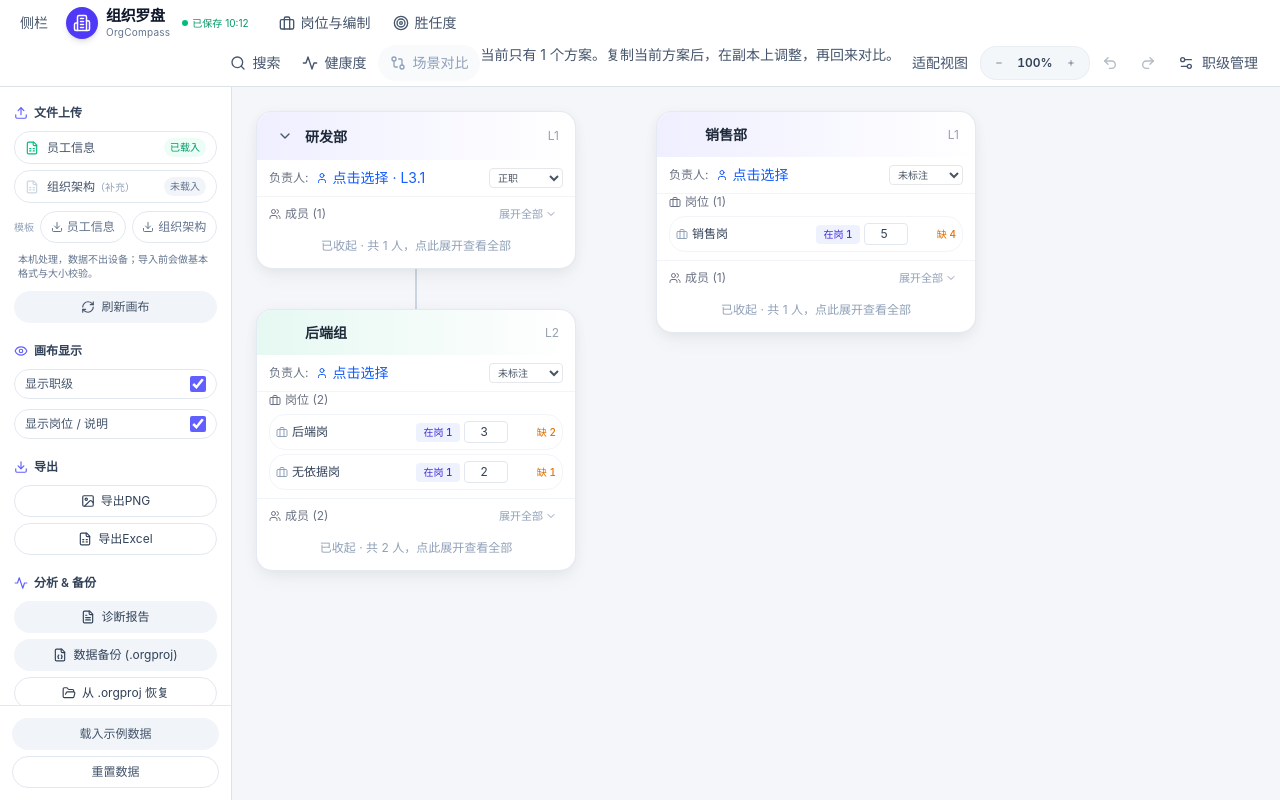
Test case: M3 看板：统一范围、筛选与下钻 › 展示五类口径，且筛选与下钻联动
Click the button "胜任度".
click(425, 23)  # box [383, 5, 467, 41]
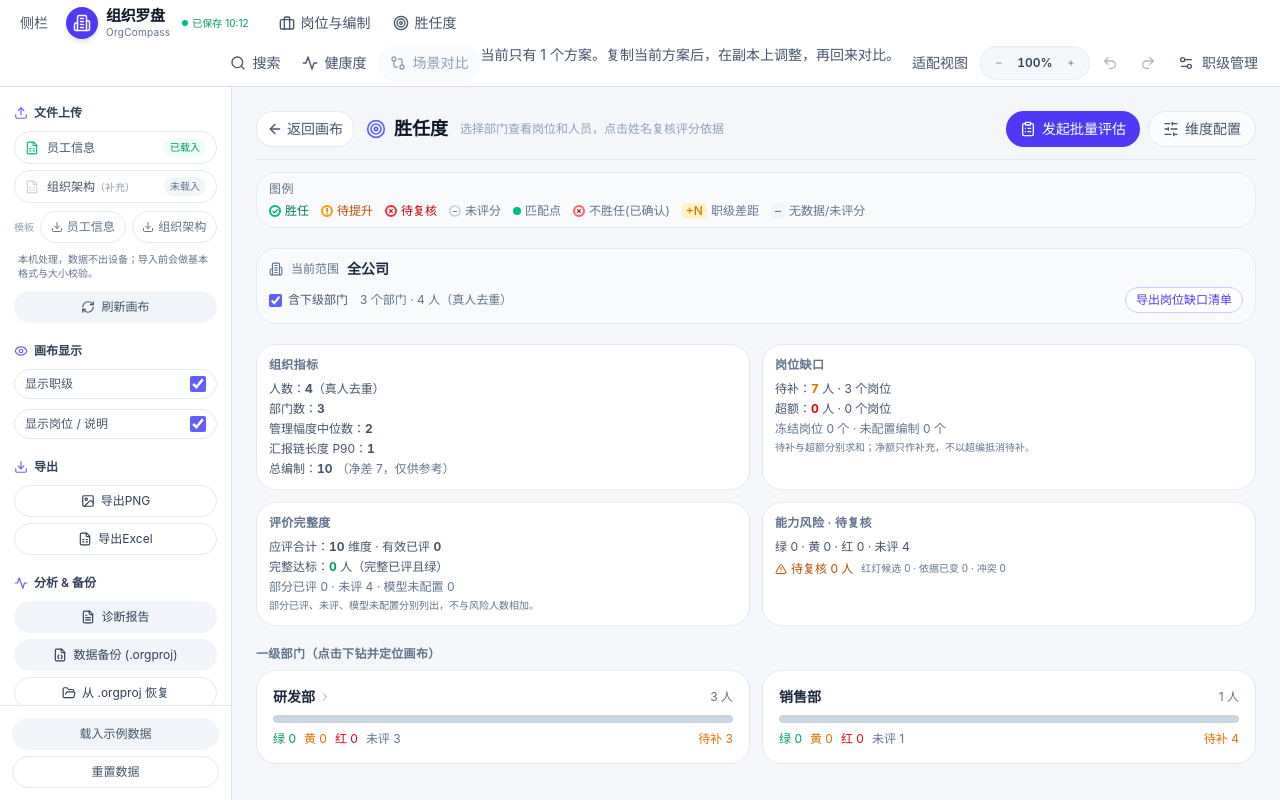
Now the heading "组织指标" is shown, box [269, 357, 318, 372]
Now the heading "岗位缺口" is shown, box [775, 357, 824, 372]
Now the heading "评价完整度" is shown, box [269, 515, 330, 530]
下钻到子部门：范围标签与卡片随之变化
Click the button "研发部 3 人 绿 0 黄 0 红 0 未评 3 待补 3".
click(503, 717)  # box [256, 670, 750, 764]
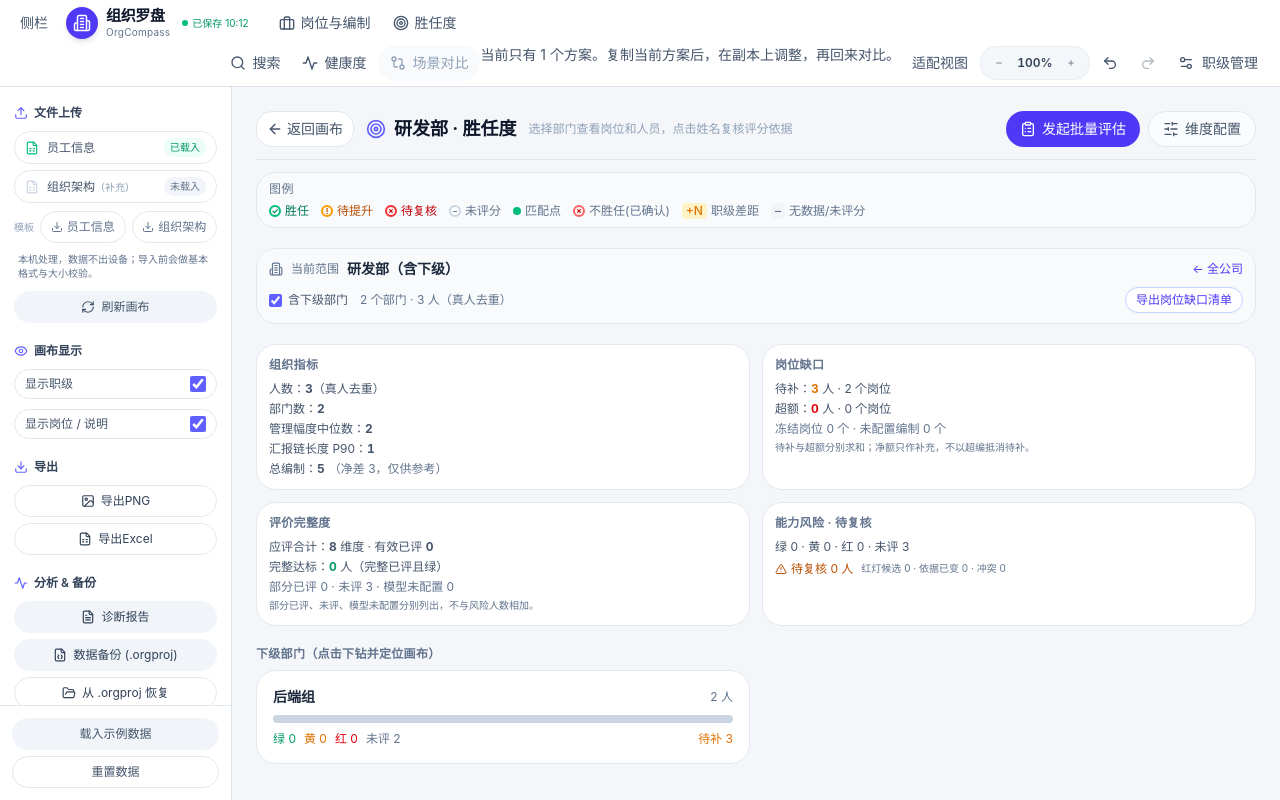
Click the button "后端组 2 人 绿 0 黄 0 红 0 未评 2 待补 3".
click(503, 717)  # box [256, 670, 750, 764]
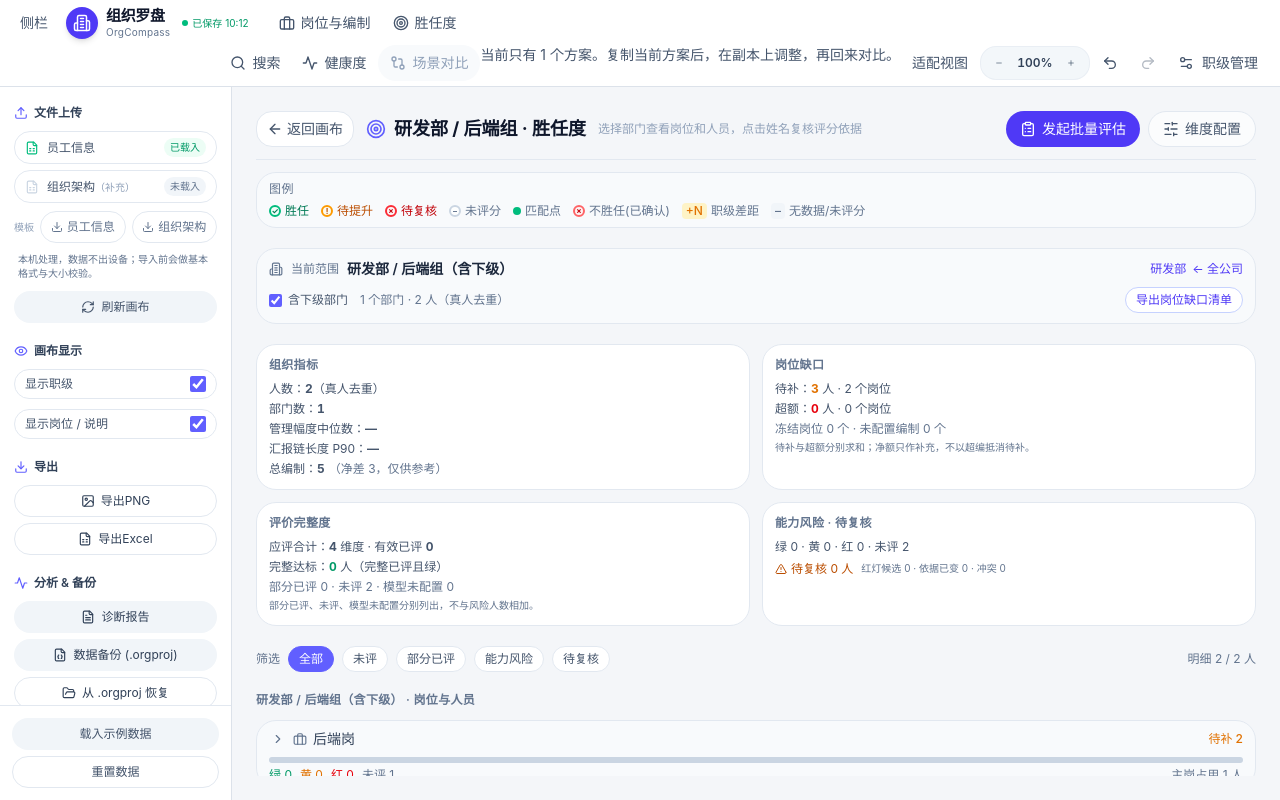
Now the text "研发部 / 后端组（含下级）" is shown, box [347, 259, 513, 279]
Now the text "后端岗" is shown, box [313, 729, 355, 749]
筛选：未评（无评分 → 全部未评）
Click the button "未评".
click(365, 659)  # box [342, 646, 388, 672]
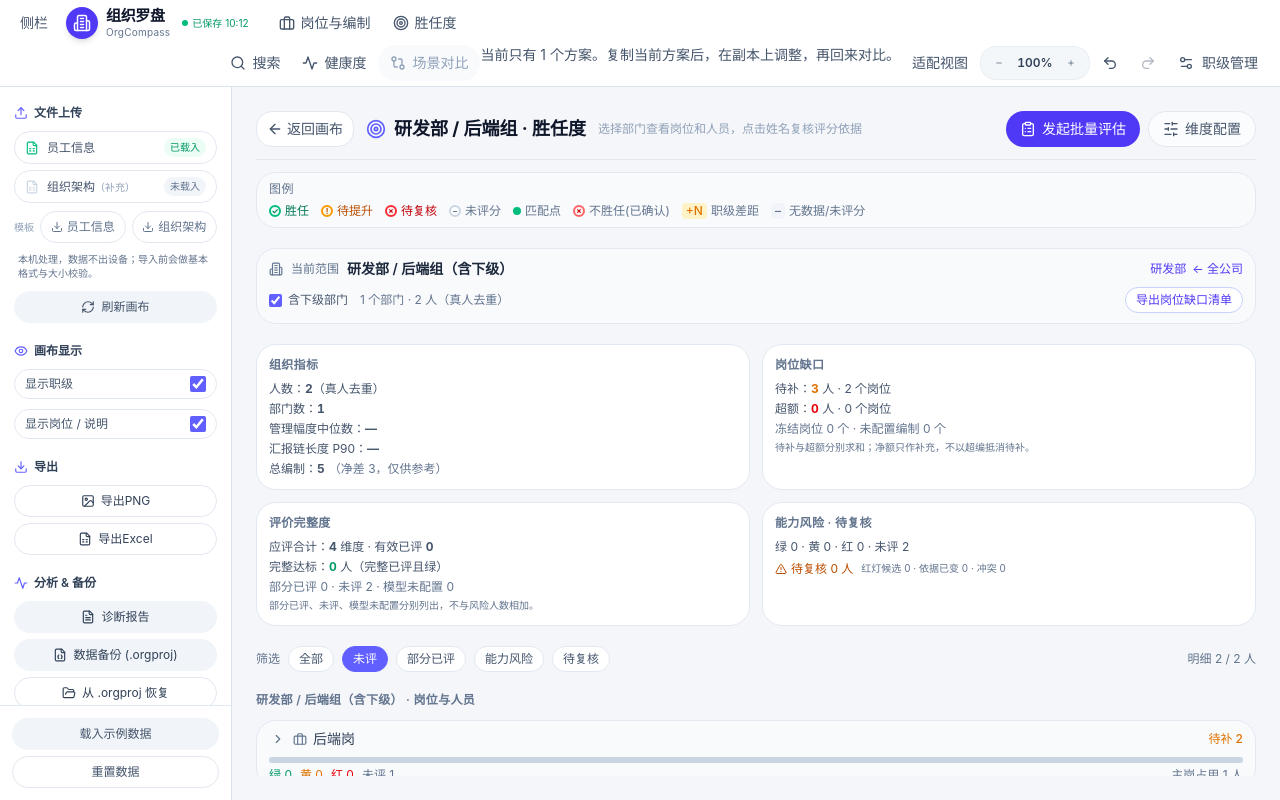
Now the text "明细 2 / 2 人" is shown, box [1188, 651, 1256, 667]
Click the button "待复核".
click(581, 659)  # box [552, 646, 610, 672]
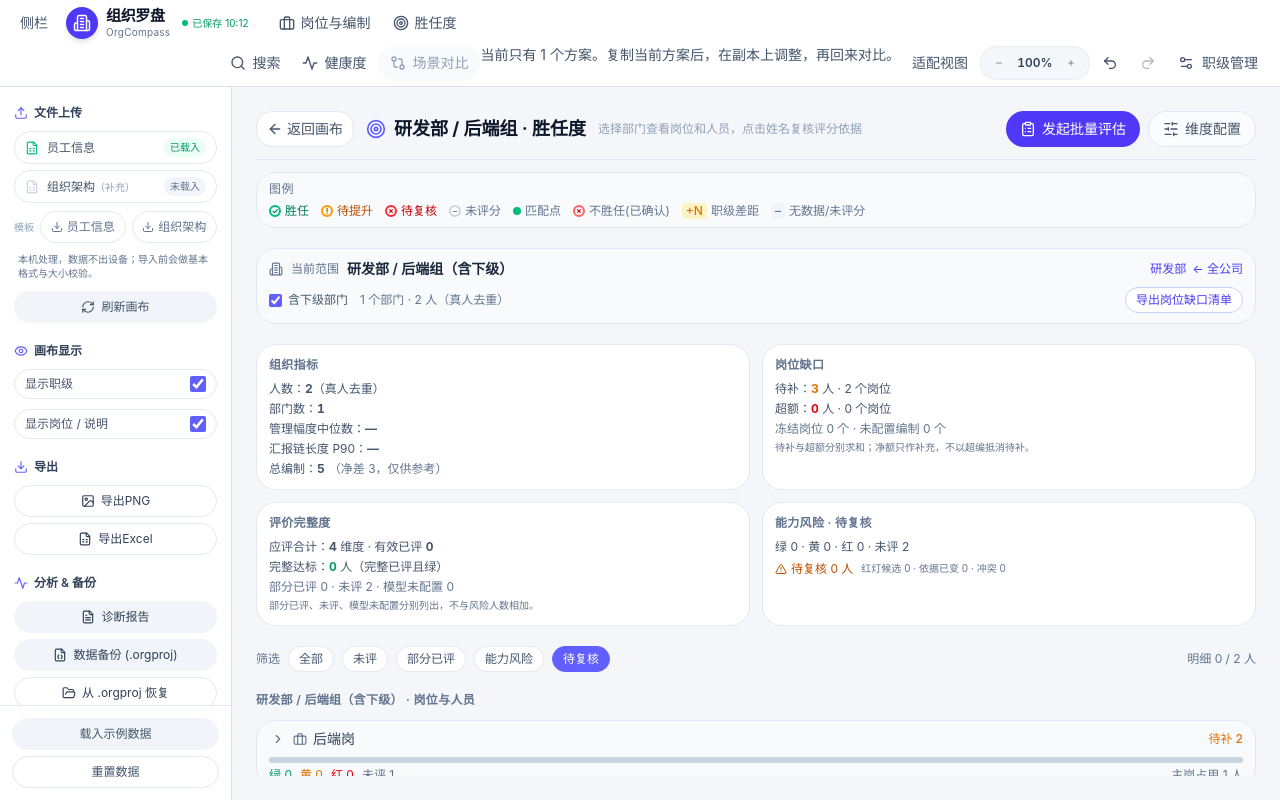
Now the text "明细 0 / 2 人" is shown, box [1187, 651, 1256, 667]
